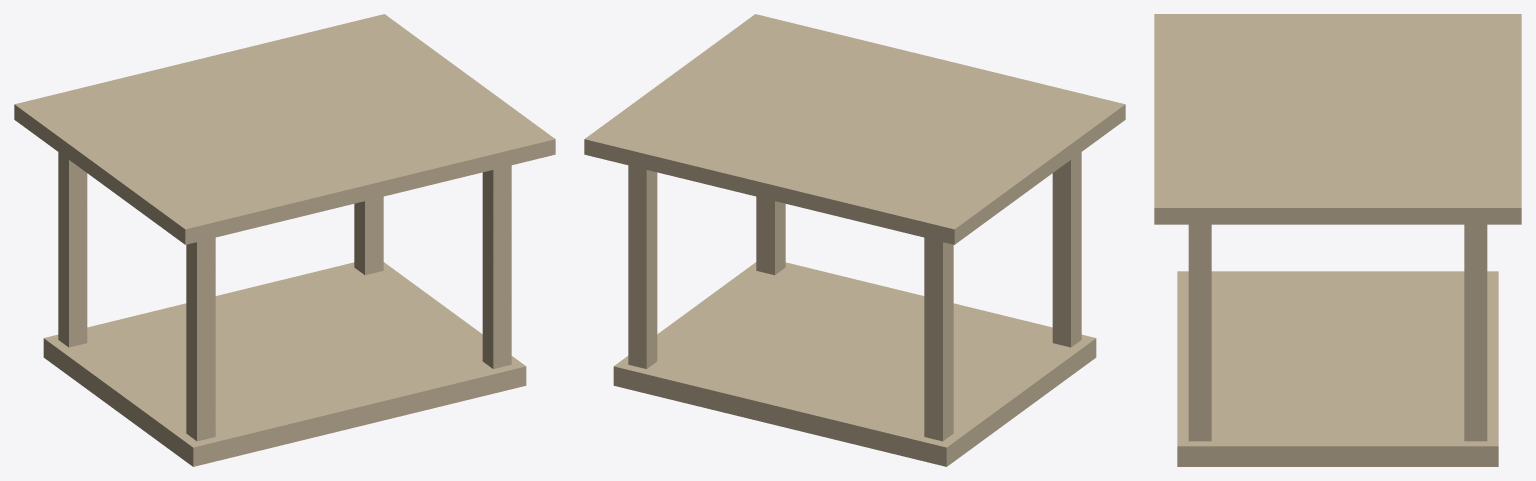
The model's file is Building_Stall.fbx.
3 views of the same model, side by side, from view 1: azimuth 30°, elevation 25°; view 2: azimuth 150°, elevation 25°; view 3: azimuth 270°, elevation 25° (orthographic). The views are drawn at different scales.
Parts seen in each view (by area): view 1: Stall; view 2: Stall; view 3: Stall.
Boxes of the visible parts, <box> form: Stall: <box>14,14,555,466</box>; Stall: <box>584,14,1125,466</box>; Stall: <box>1154,14,1521,466</box>.
Bounding box in the file's own units: 2 × 1.29 × 1.6.
